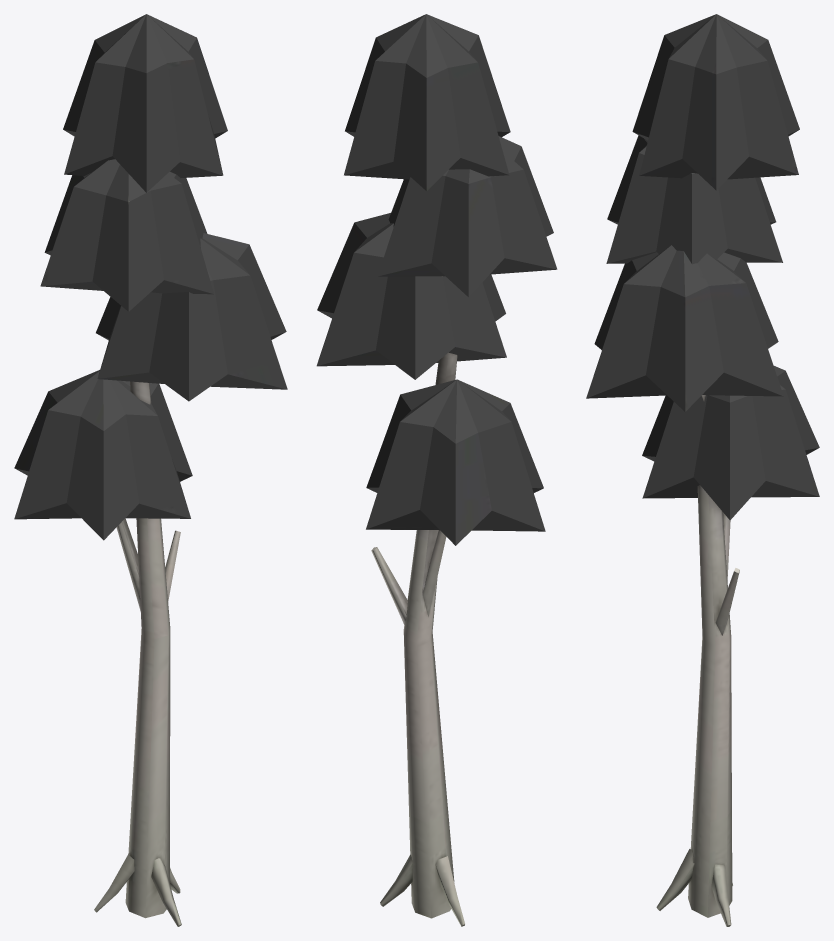
The model's file is arv_betula_3.glb.
3 views of the same model, side by side, from view 1: azimuth 30°, elevation 25°; view 2: azimuth 150°, elevation 25°; view 3: azimuth 270°, elevation 25° (orthographic).
Parts seen in each view (by area): view 1: arv_betula_3_corpo; view 2: arv_betula_3_corpo; view 3: arv_betula_3_corpo.
Boxes of the visible parts, x1,y1,x2,y2 form: arv_betula_3_corpo: [14, 14, 287, 926]; arv_betula_3_corpo: [316, 14, 557, 926]; arv_betula_3_corpo: [586, 14, 819, 926].
Bounding box in the file's own units: 0.7153 × 2.44 × 0.5779.
Materials: 1 (1 with a texture image).
